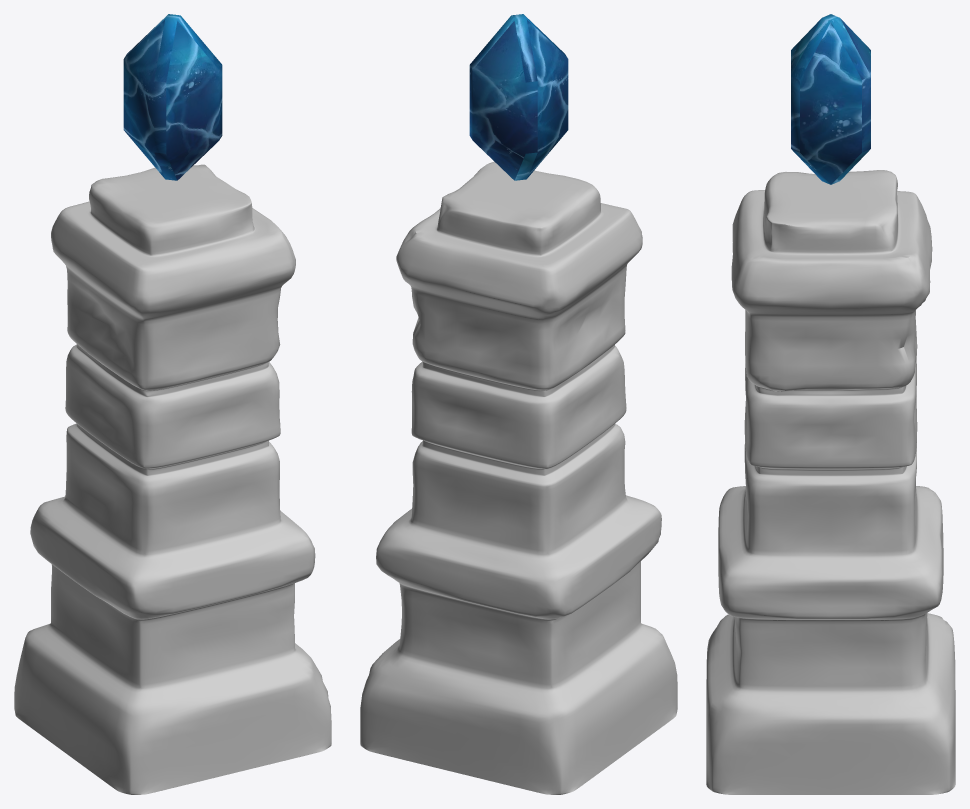
Rendered from CrystalPillar1.fbx.
The picture shows the model from 3 angles, left to right: view 1: azimuth 30°, elevation 25°; view 2: azimuth 150°, elevation 25°; view 3: azimuth 270°, elevation 25°; orthographic projection.
Visible parts, largest first — view 1: Cube.001, Cube.002; view 2: Cube.001, Cube.002; view 3: Cube.001, Cube.002.
Boxes of the visible parts, bbox=[...] form: Cube.001: bbox=[14, 164, 331, 794]; Cube.002: bbox=[123, 14, 222, 180]; Cube.001: bbox=[360, 161, 677, 794]; Cube.002: bbox=[469, 14, 568, 180]; Cube.001: bbox=[706, 170, 955, 794]; Cube.002: bbox=[791, 14, 870, 184].
Size of the model in its own units: 100 by 320 by 100.
